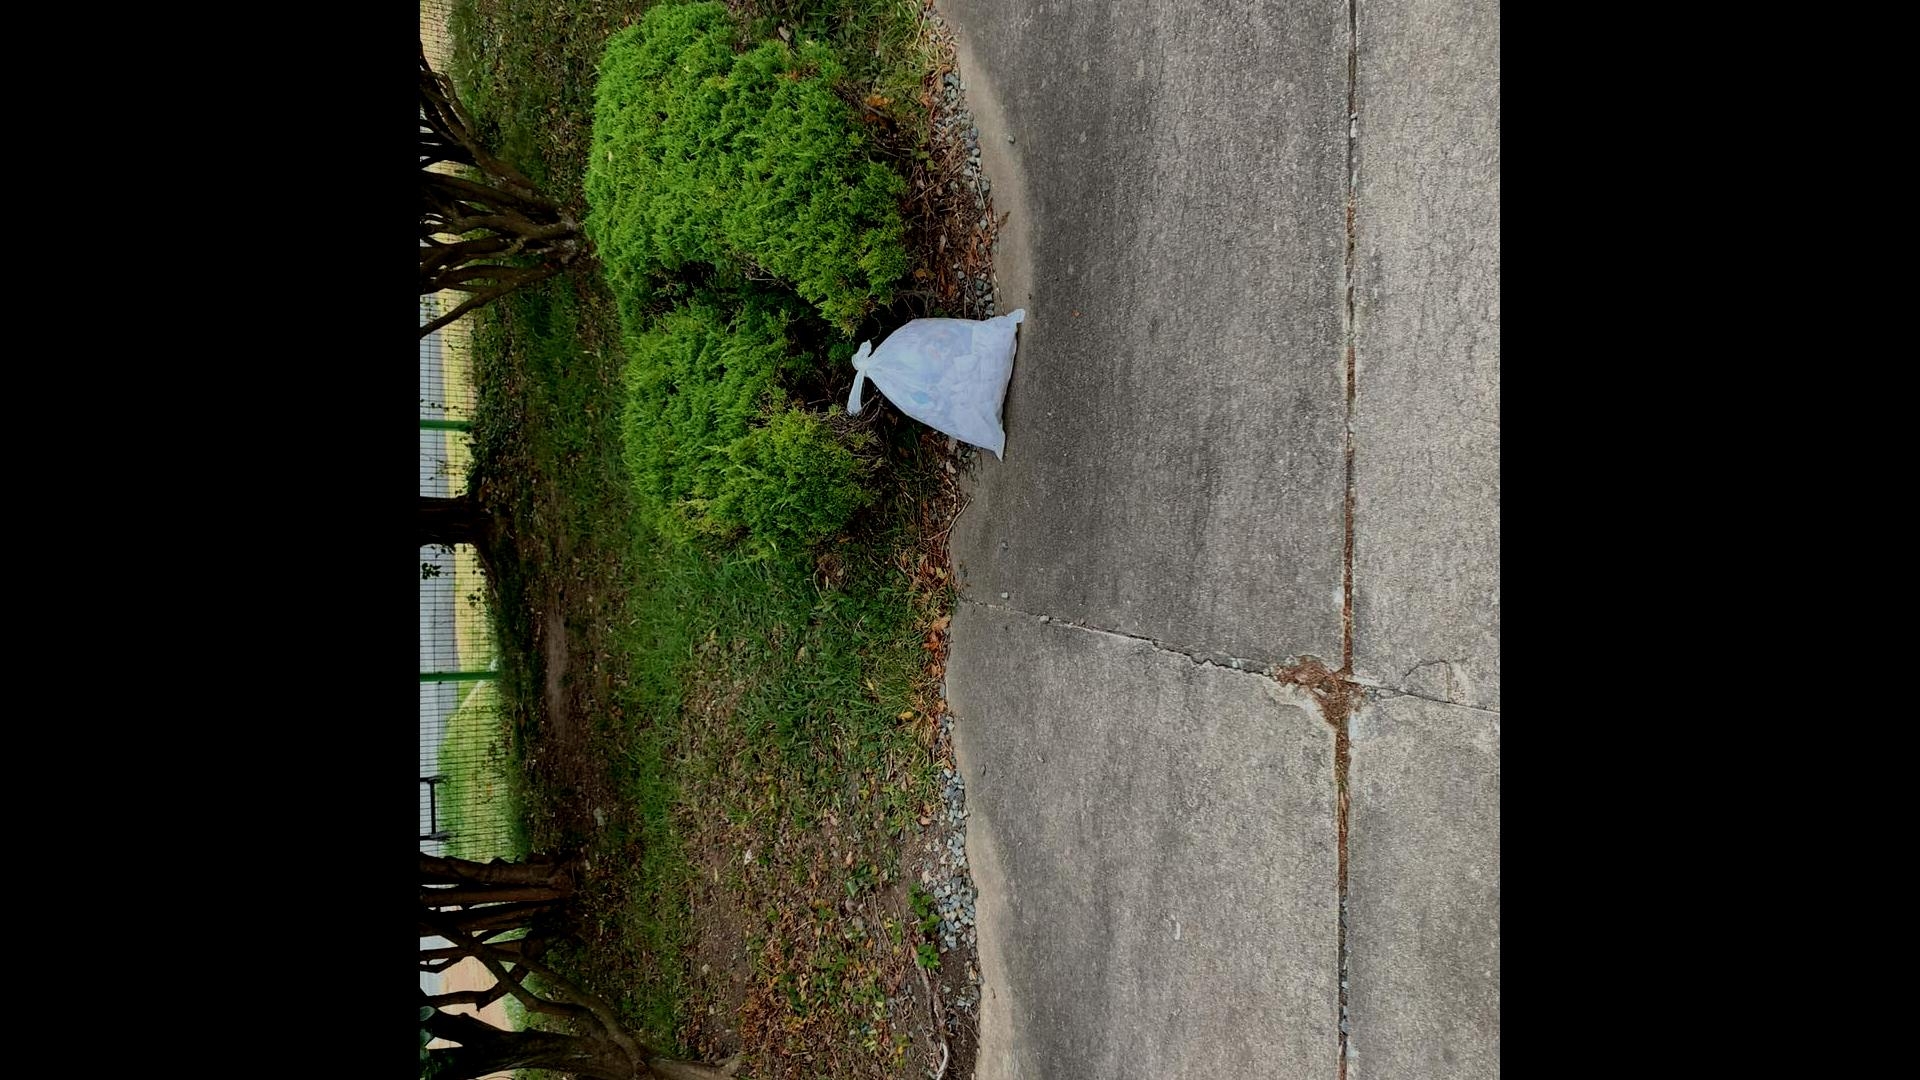white_bag: (833, 297, 1034, 484)
